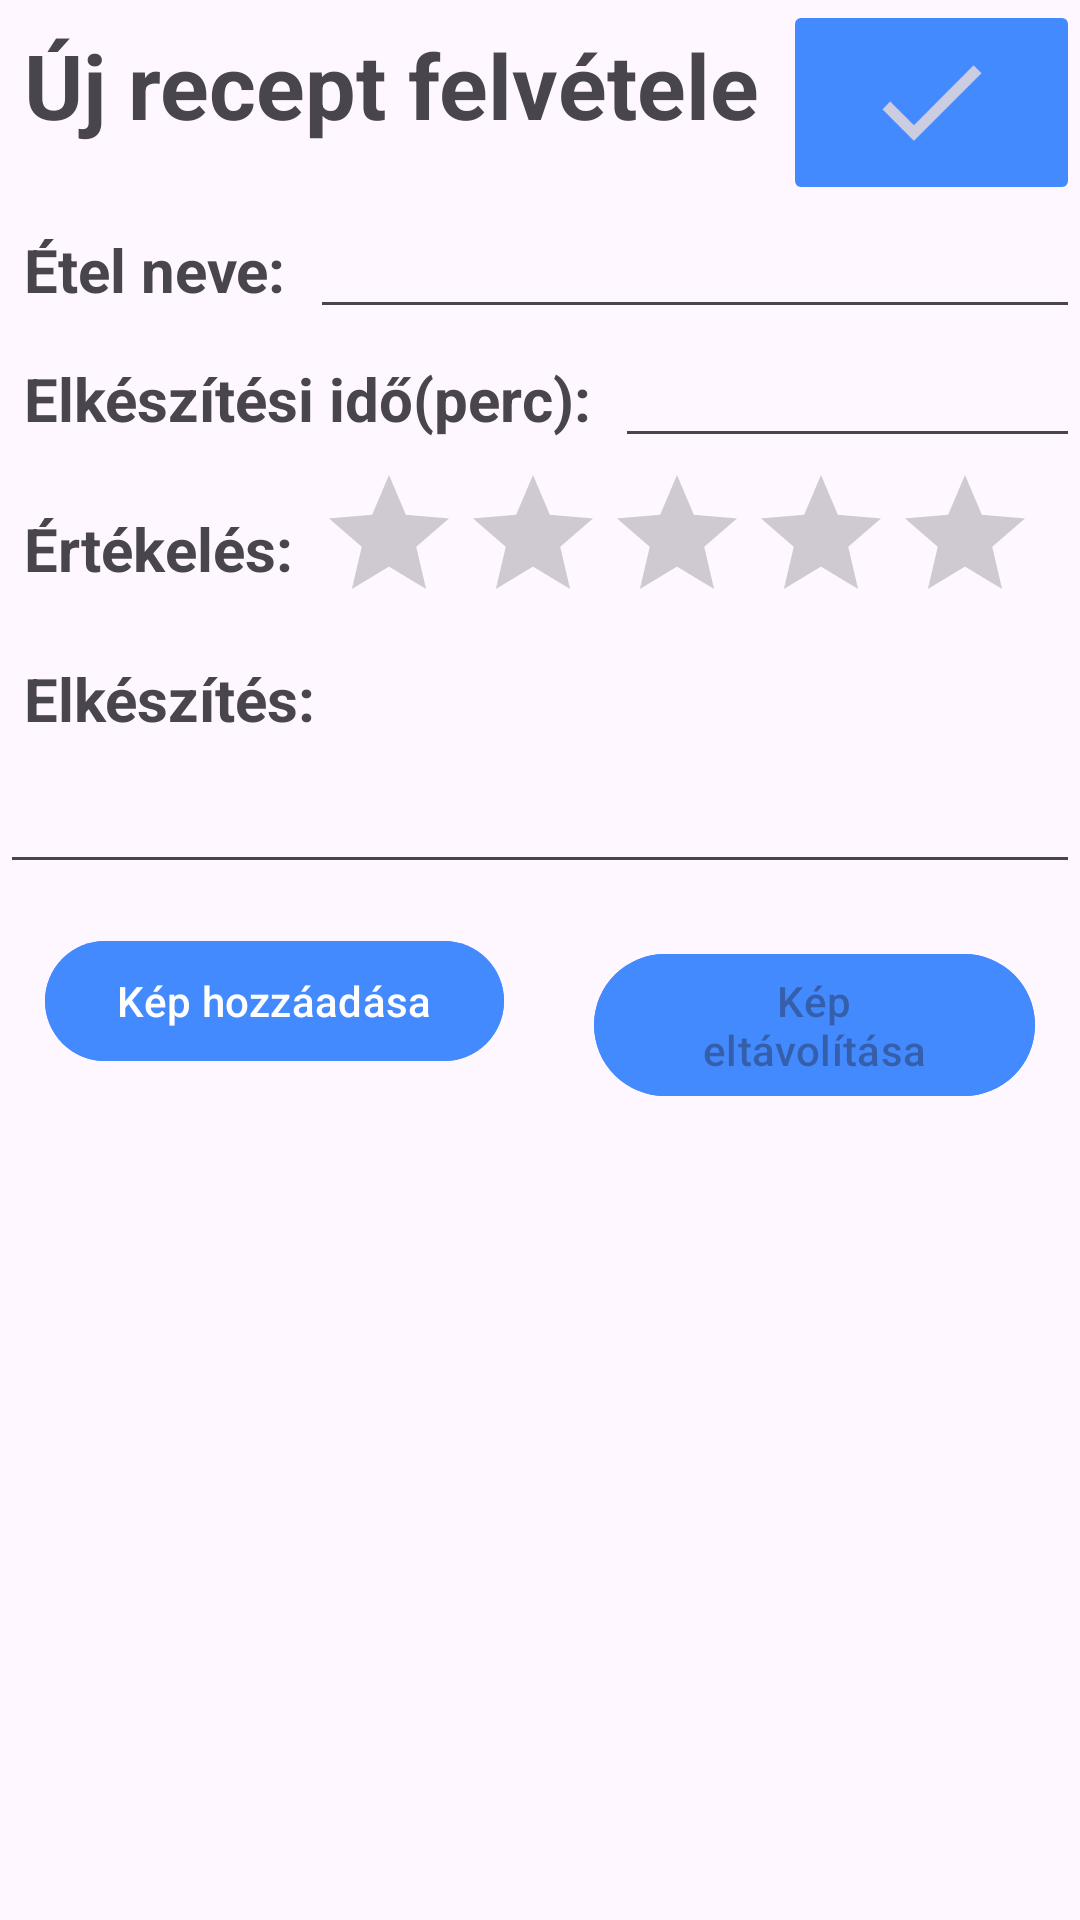

Locate icon controls on the screen. Image size 1080px x 1920px, boxes as (x1, y1, x2, y2).
done: (795, 18, 1068, 187)
